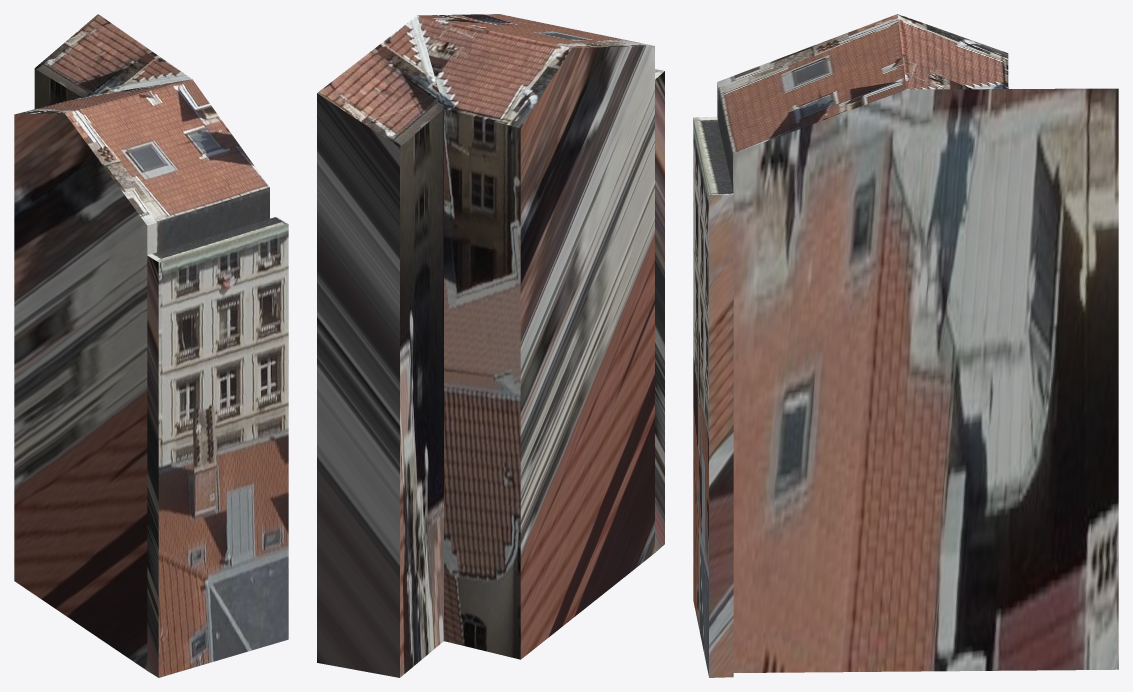
3 views of the same model, side by side, from view 1: azimuth 30°, elevation 25°; view 2: azimuth 150°, elevation 25°; view 3: azimuth 270°, elevation 25° (orthographic). The views are drawn at different scales.
Visible parts, largest first — view 1: Z_UP; view 2: Z_UP; view 3: Z_UP.
Part boxes in pixels (box(x1,y1,x2,y2)): Z_UP: box(14, 14, 288, 677); Z_UP: box(317, 14, 664, 677); Z_UP: box(693, 14, 1118, 677).
Size of the model in its own units: 7.48 by 24.6 by 16.27.
2 materials, 1 textured.
